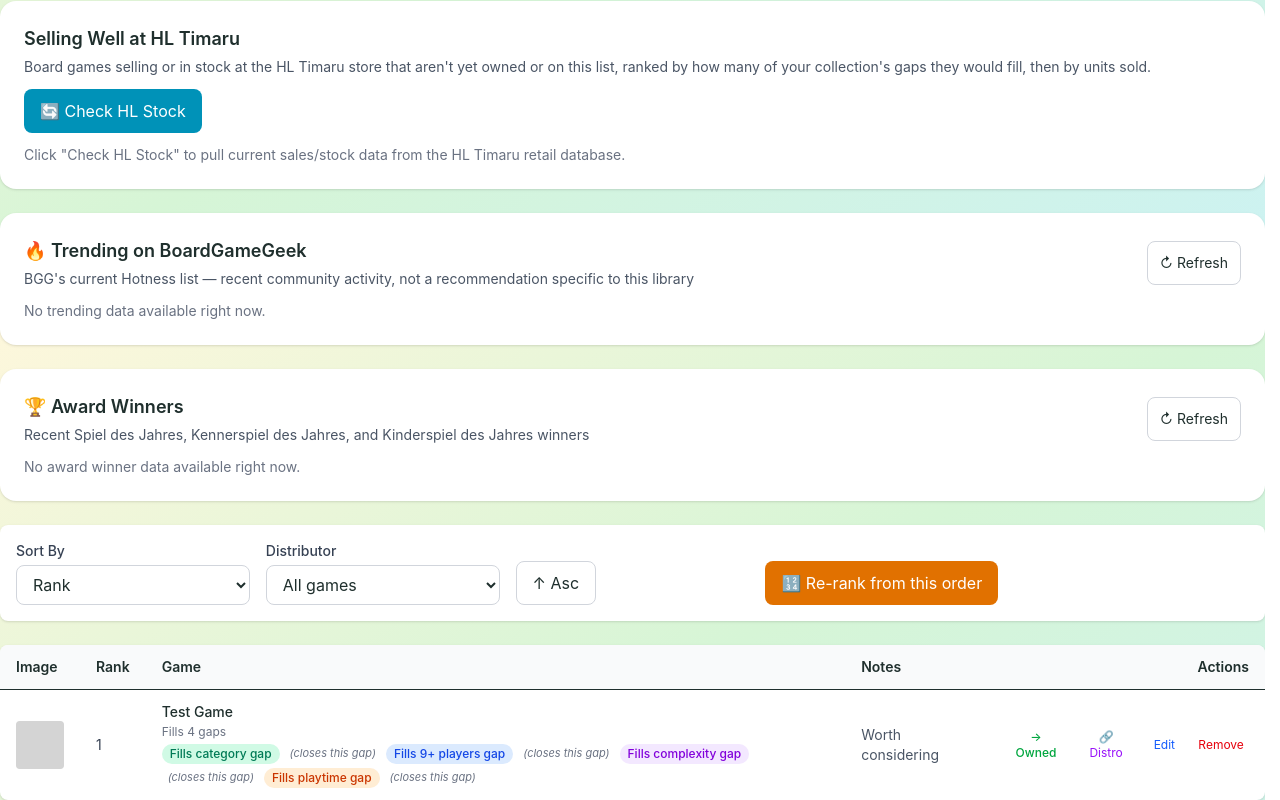
Test case: BuyListTab › Edit Functionality › enters edit mode and populates rank/notes
(page scrolled)
Expected: the text "Test Game" is shown, [162,703,233,720]
Click the button "Edit" at (1164, 745), box [1142,723,1186,767]
(page scrolled)
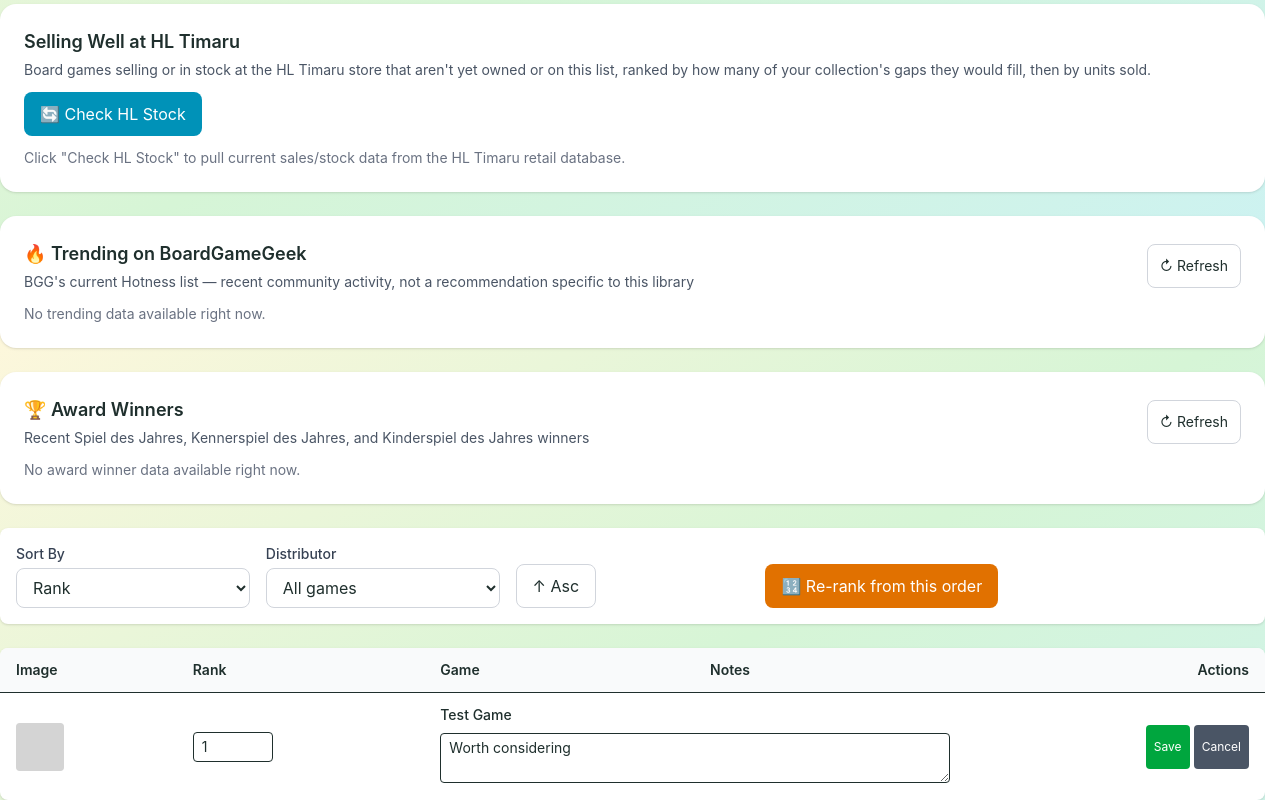
Result: the number field showing "1" is shown at [193,732,273,762]
Result: the text box showing "Worth considering" is shown at [440,733,950,783]
